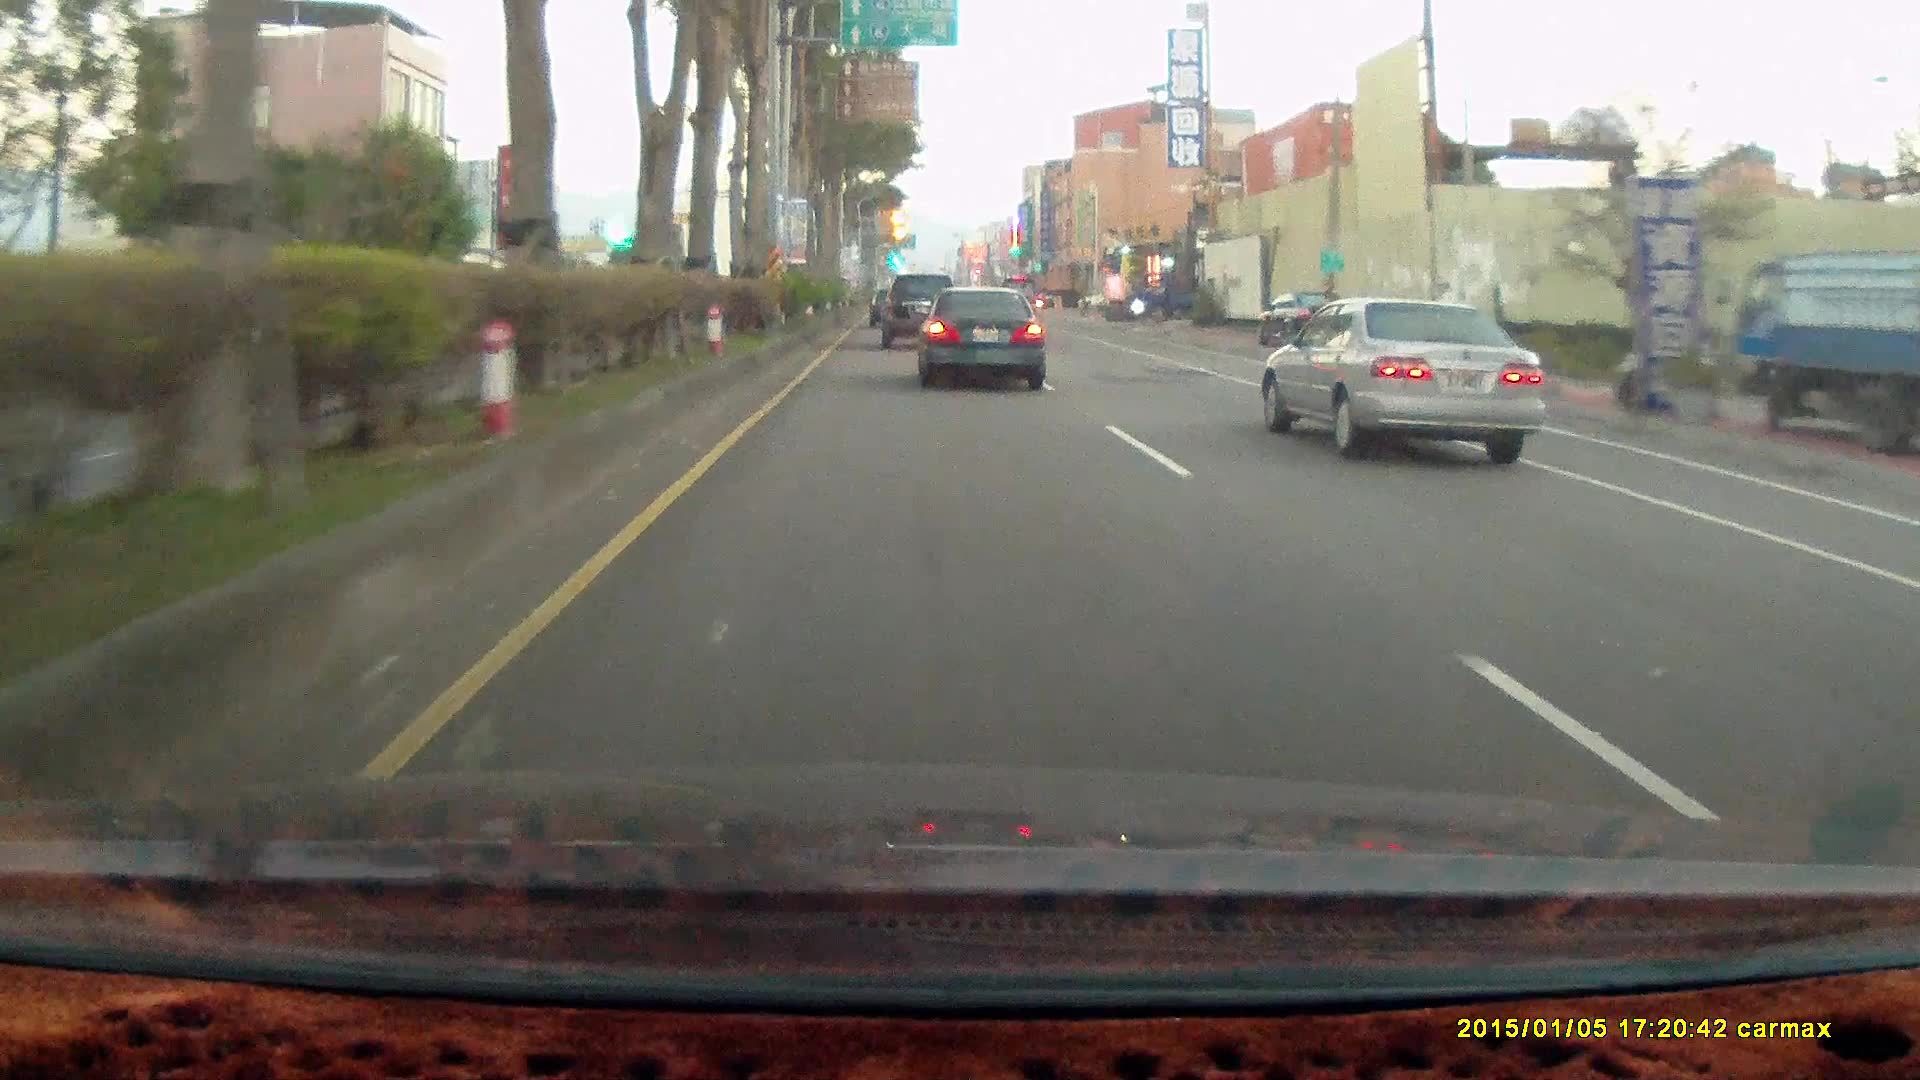vehicle: (1273, 294, 1559, 464), (1259, 295, 1545, 464), (1729, 255, 1919, 456), (913, 280, 1044, 384), (918, 285, 1048, 389), (881, 272, 961, 349), (880, 272, 960, 348), (1131, 272, 1212, 320), (1044, 286, 1084, 307)
